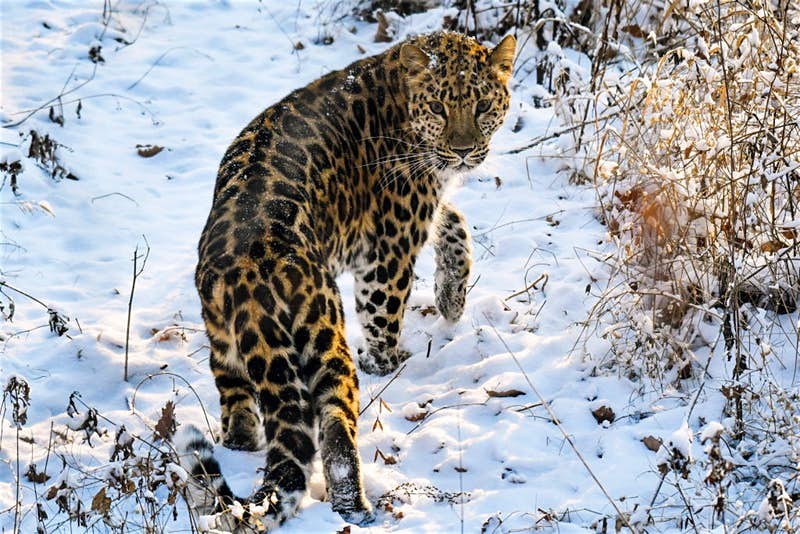amur_leopard: (335, 29, 564, 182)
